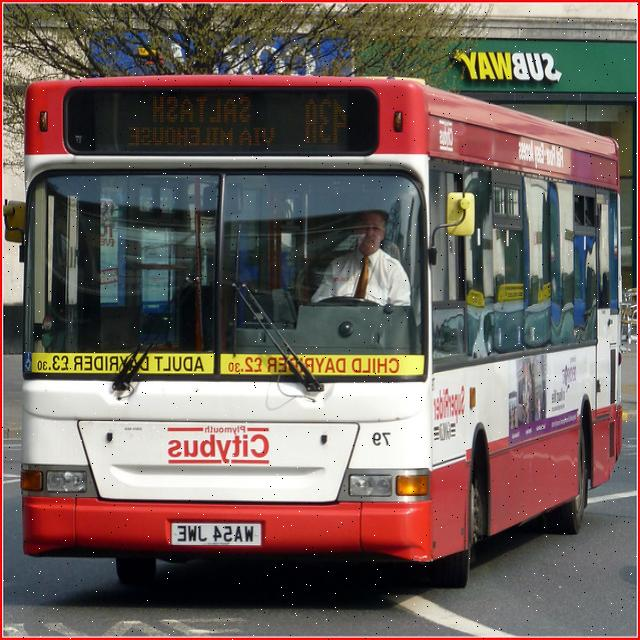Bus: (19, 76, 622, 575)
